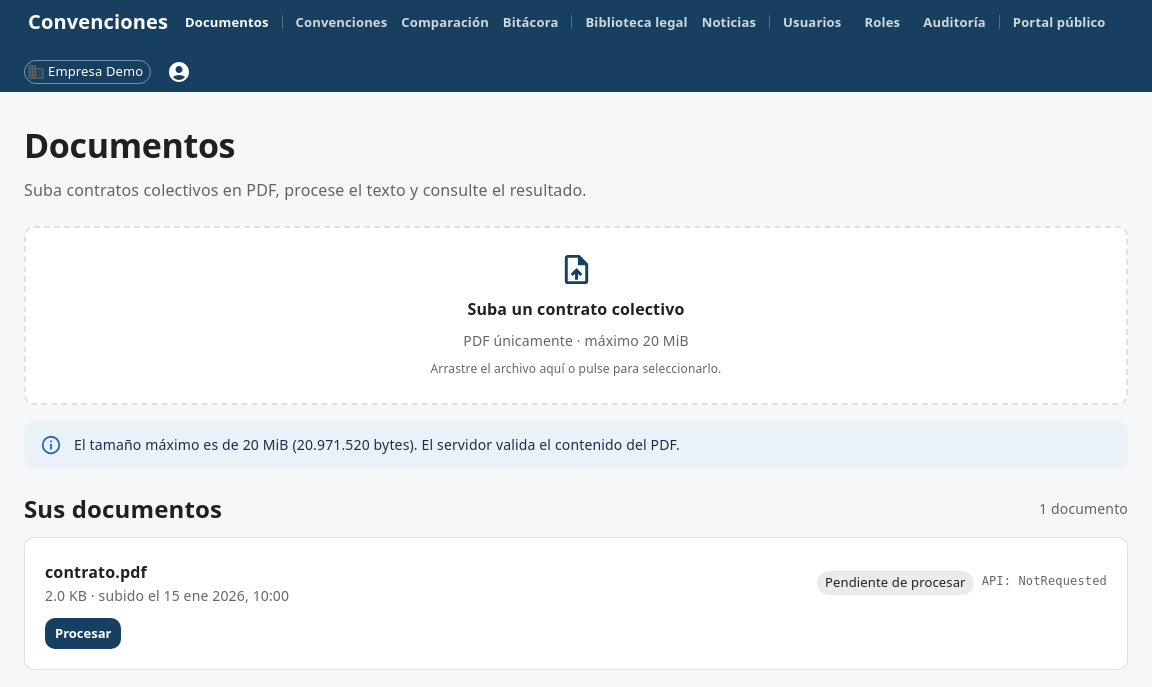
DocumentsPage › shows the API error code when processing is refused
Click the button "Procesar" at (83, 633), box [45, 618, 121, 649]
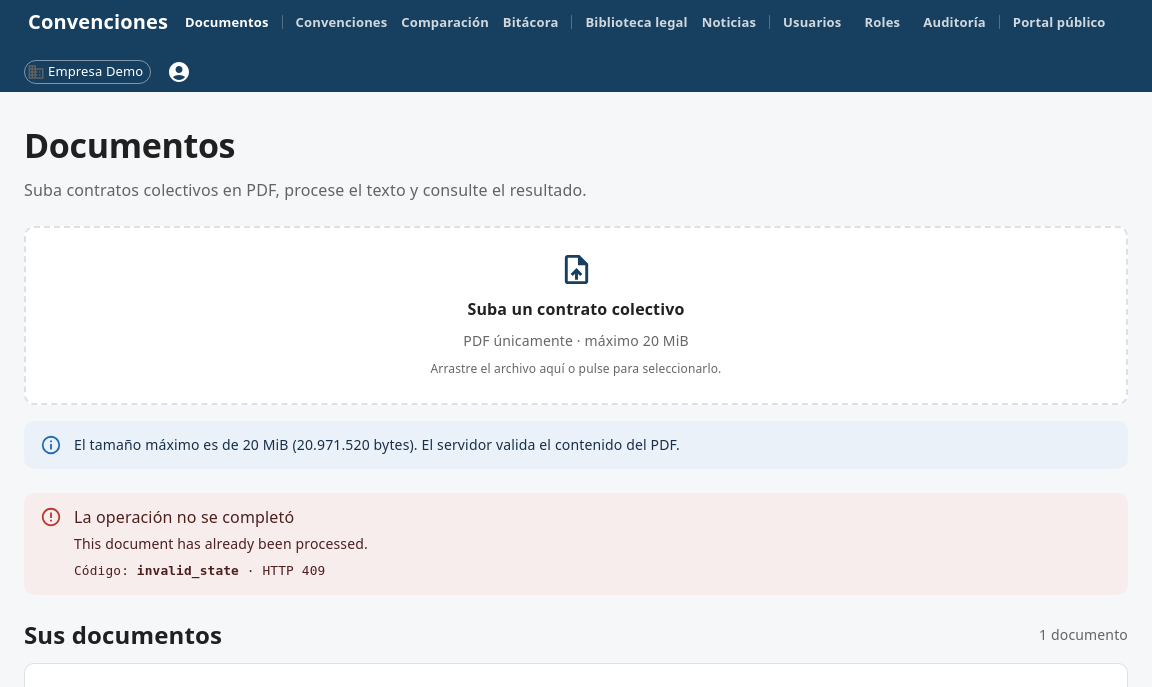
Check: the text "invalid_state" is shown, box [137, 563, 239, 578]
Check: the text "Código: invalid_state · HTTP 409" is shown, box [74, 562, 368, 581]
